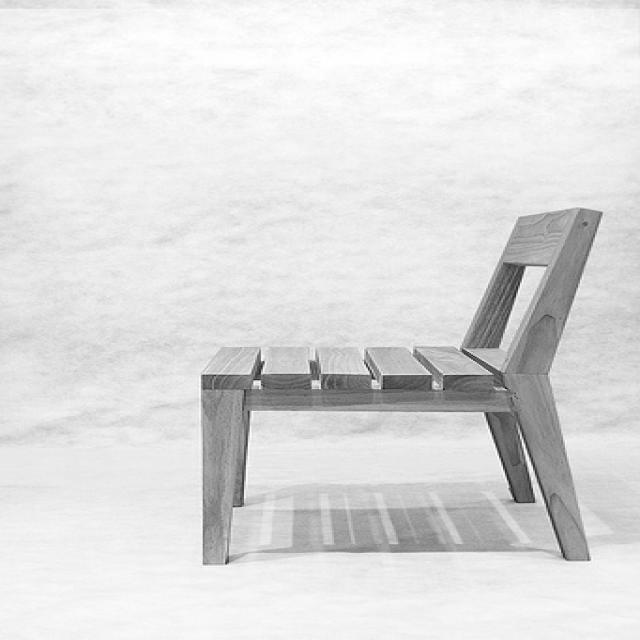chair: (198, 208, 612, 567)
